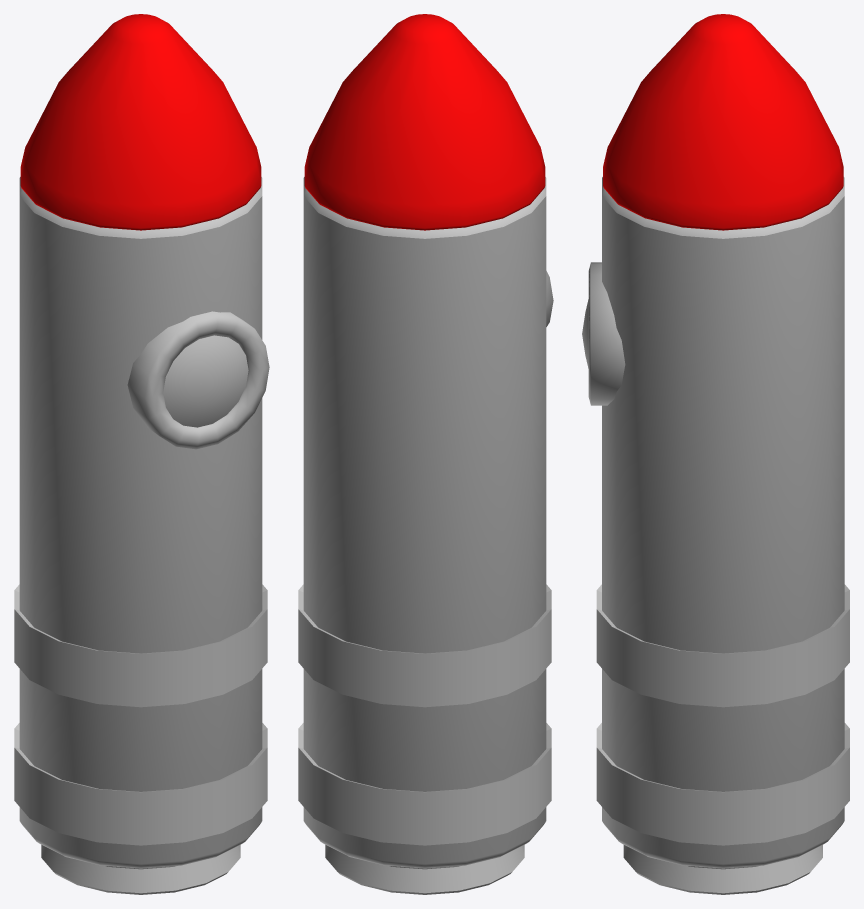
The model's file is Rocket_Body_test.fbx.
3 views of the same model, side by side, from view 1: azimuth 30°, elevation 25°; view 2: azimuth 150°, elevation 25°; view 3: azimuth 270°, elevation 25° (orthographic).
Visible parts, largest first — view 1: Object026; view 2: Object026; view 3: Object026.
Part boxes in pixels (x1,y1,x2,y2): Object026: (14,14,269,894); Object026: (298,14,553,894); Object026: (582,14,849,894).
Bounding box in the file's own units: 40.18 × 144 × 41.86.
